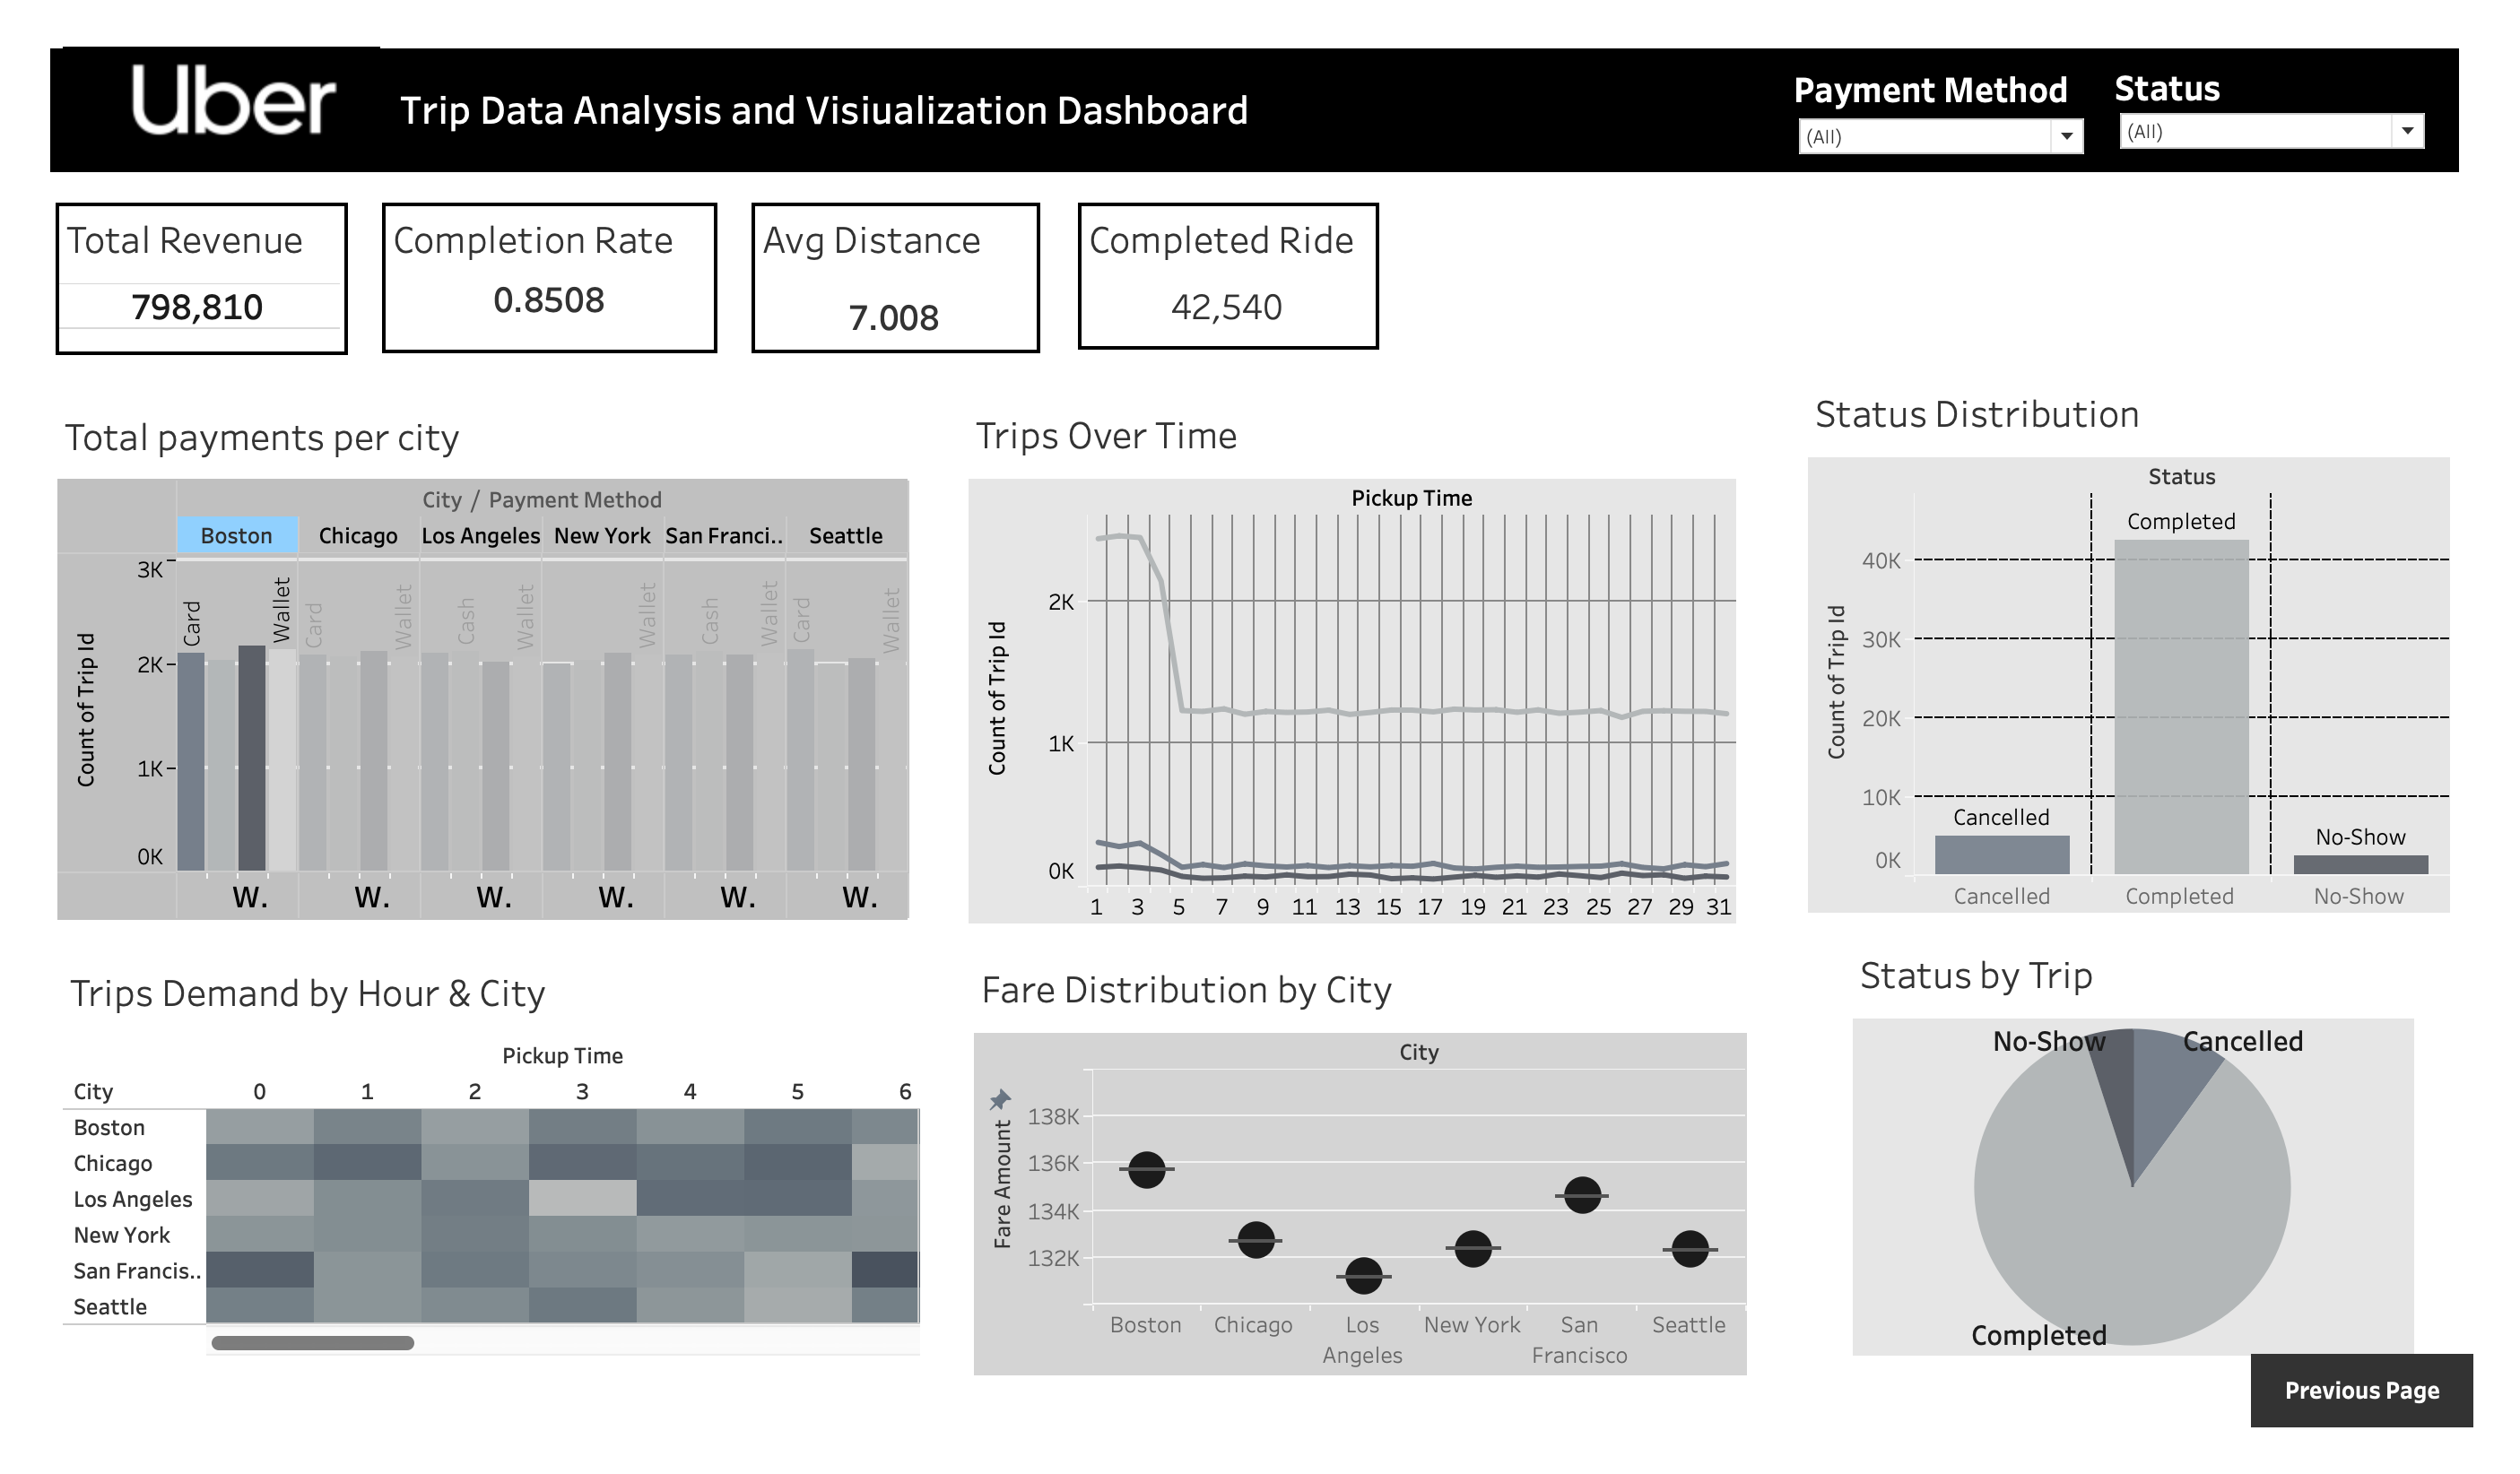

What the dashboard file says about the page in this screenshot:
{"tool":"tableau","page":{"name":"Dashboard 2","canvas":[1366,768],"ordinal":1},"visuals":[{"type":"image","param":"Image/Screenshot 2026-03-15 at 1.22.16 PM.png","box":[18,9,177,68]},{"type":"image","param":"Image/Screenshot 2026-03-15 at 1.22.16 PM 1.png","box":[11,10,1343,69]},{"type":"text","box":[193,14,500,60]},{"type":"filter","title":"Status Distribution","param":"[federated.15heqyo1j1d9dy1cqfset0o8cy7p].[none:status:nk]","box":[1162,18,176,50]},{"type":"filter","title":"Total payments per city","param":"[federated.15heqyo1j1d9dy1cqfset0o8cy7p].[none:payment_method:nk]","box":[983,19,165,60]},{"type":"worksheet","title":"Total Revenue","mark":"Automatic","box":[14,96,163,85]},{"type":"worksheet","title":"Completion Rate","mark":"Automatic","box":[196,96,187,84]},{"type":"worksheet","title":"Avg Distance","mark":"Automatic","box":[402,96,161,84]},{"type":"worksheet","title":"Completed Ride","mark":"Automatic","box":[584,96,168,82]},{"type":"worksheet","title":"Status Distribution","mark":"Bar","rows":["trip_id"],"cols":["status"],"box":[991,195,358,297]},{"type":"worksheet","title":"Trips Over Time","mark":"Automatic","rows":["trip_id"],"cols":["pickup_time"],"box":[523,207,428,291]},{"type":"worksheet","title":"Total payments per city","mark":"Bar","rows":["trip_id"],"cols":["city","payment_method"],"box":[15,208,475,288]},{"type":"worksheet","title":"Status by Trip","mark":"Pie","box":[1016,508,319,231]},{"type":"worksheet","title":"Fare Distribution by City","mark":"Circle","rows":["fare_amount"],"cols":["city"],"box":[526,516,431,234]},{"type":"worksheet","title":"Trips Demand by Hour & City","mark":"Square","rows":["city"],"cols":["pickup_time"],"box":[18,518,478,253]}]}

Visuals, with their boxes on the page's 1366x768 design canvas (x1, y1, x2, y2). These are canvas units, not pixel positions in the 2520x1474 screenshot, which may show the page scaled, cropped or inside an application window:
image: left=18, top=9, right=195, bottom=77
image: left=11, top=10, right=1354, bottom=79
text: left=193, top=14, right=693, bottom=74
"Status Distribution" filter: left=1162, top=18, right=1338, bottom=68
"Total payments per city" filter: left=983, top=19, right=1148, bottom=79
"Total Revenue" worksheet: left=14, top=96, right=177, bottom=181
"Completion Rate" worksheet: left=196, top=96, right=383, bottom=180
"Avg Distance" worksheet: left=402, top=96, right=563, bottom=180
"Completed Ride" worksheet: left=584, top=96, right=752, bottom=178
"Status Distribution" worksheet (Bar marks): left=991, top=195, right=1349, bottom=492
"Trips Over Time" worksheet: left=523, top=207, right=951, bottom=498
"Total payments per city" worksheet (Bar marks): left=15, top=208, right=490, bottom=496
"Status by Trip" worksheet (Pie marks): left=1016, top=508, right=1335, bottom=739
"Fare Distribution by City" worksheet (Circle marks): left=526, top=516, right=957, bottom=750
"Trips Demand by Hour & City" worksheet (Square marks): left=18, top=518, right=496, bottom=771
